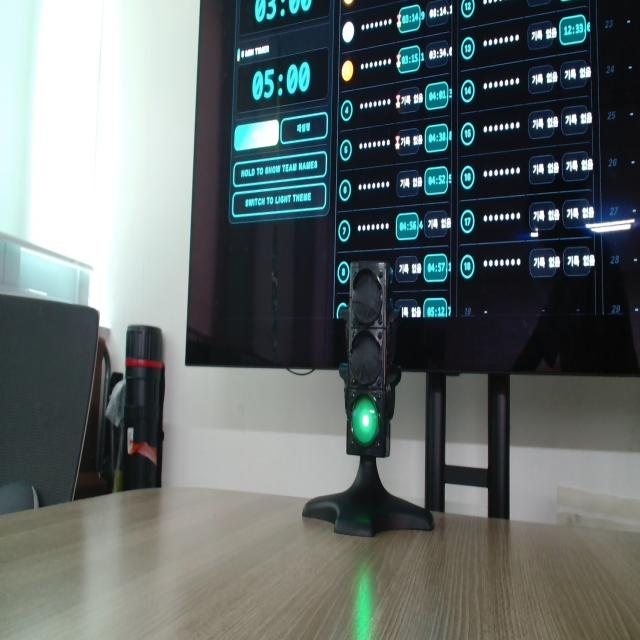green_light: (352, 396, 378, 447)
